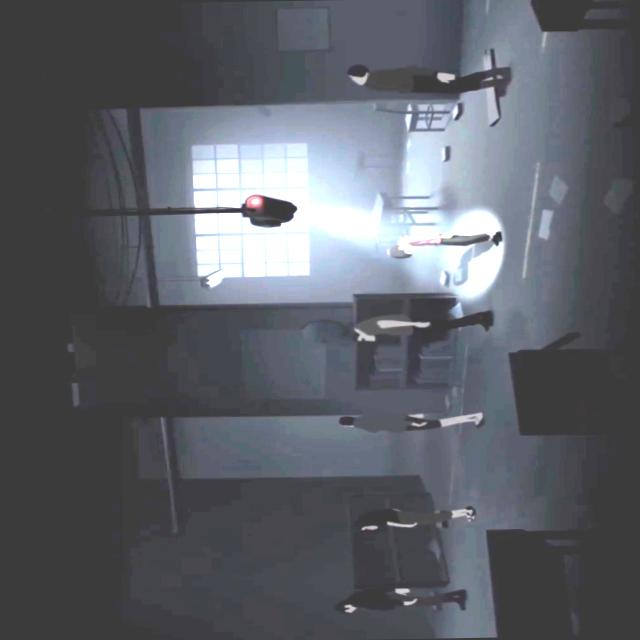boy: (384, 230, 502, 258)
zombie: (347, 310, 493, 347), (345, 63, 508, 96), (334, 586, 467, 614), (357, 504, 473, 532), (338, 412, 480, 434)
